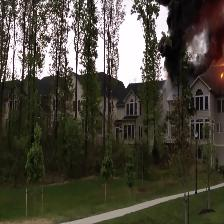smoke: (166, 2, 190, 73), (200, 5, 223, 54)
